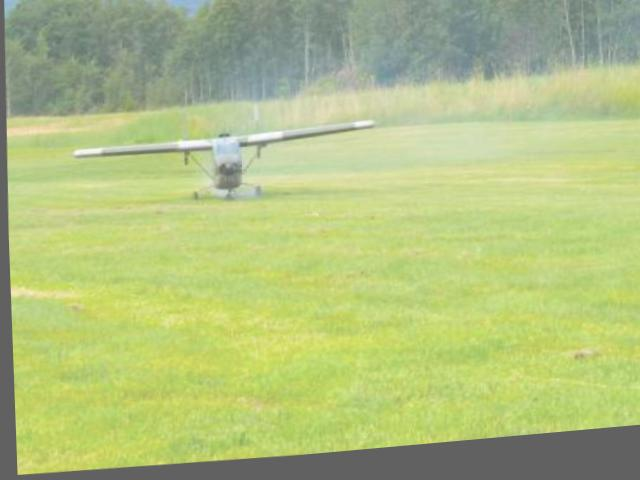uav: (68, 91, 379, 211)
